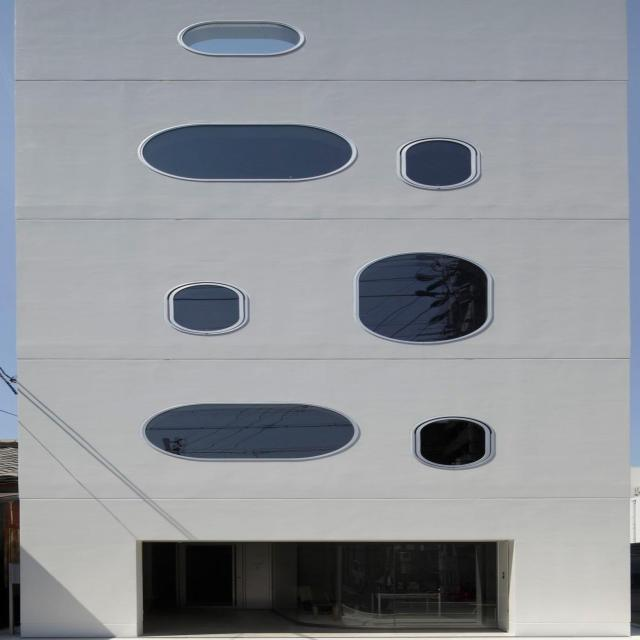door: (143, 542, 242, 611)
window: (269, 541, 500, 630), (145, 127, 355, 181), (359, 252, 485, 342), (154, 404, 346, 458), (417, 419, 493, 467), (182, 23, 299, 53), (404, 139, 473, 185), (178, 282, 241, 330)
